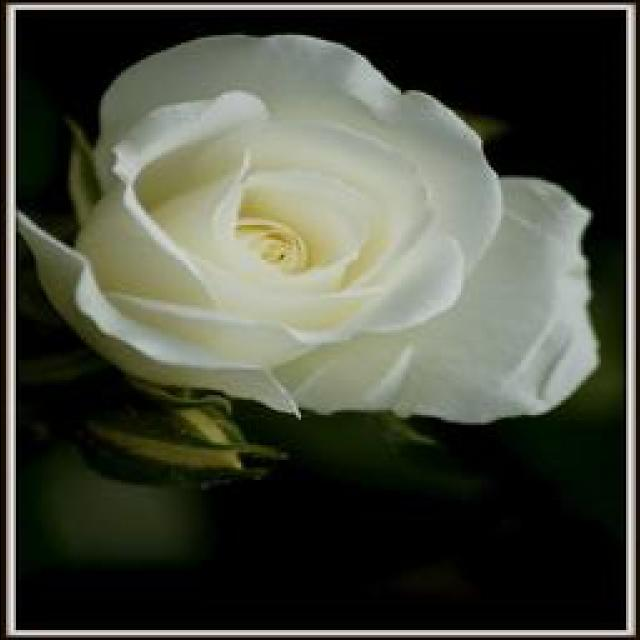rose: (74, 23, 498, 416)
